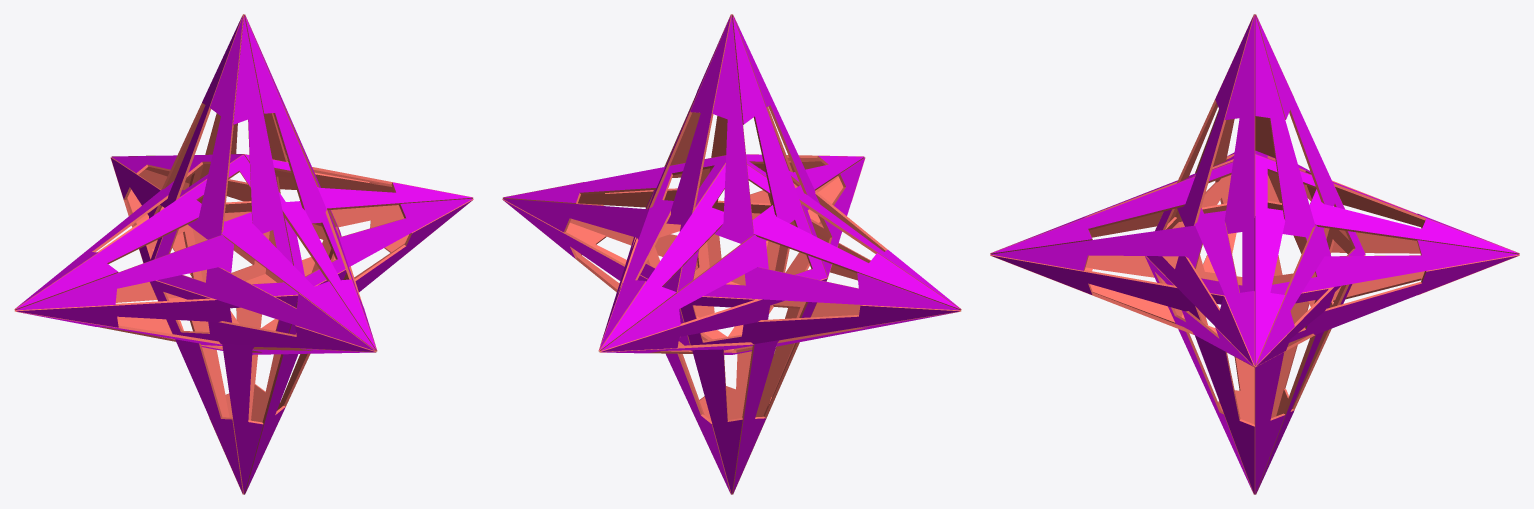
Rendered from SmallHexacronicIcositetrahedronS.glb.
3 renders of one model, left to right at view 1: azimuth 30°, elevation 25°; view 2: azimuth 150°, elevation 25°; view 3: azimuth 270°, elevation 25°, orthographic.
Visible parts, largest first — view 1: root; view 2: root; view 3: root.
Boxes of the visible parts, box(x1,y1,x2,y2) form: root: box(14, 14, 473, 494); root: box(502, 14, 961, 494); root: box(990, 14, 1519, 494).
Bounding box in the file's own units: 10.24 × 10.24 × 10.24.
